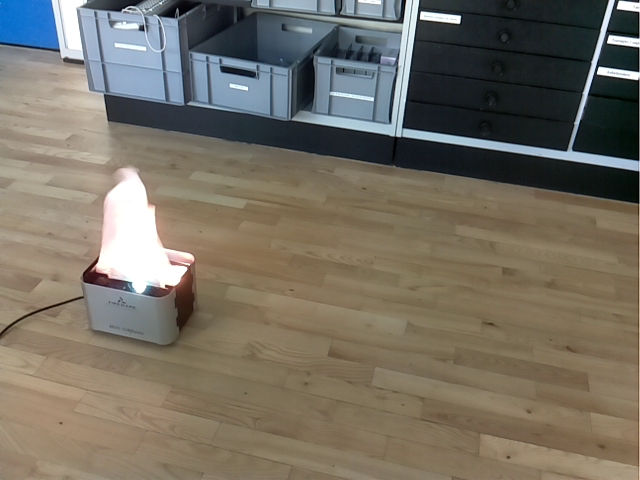fire: (96, 166, 180, 289)
